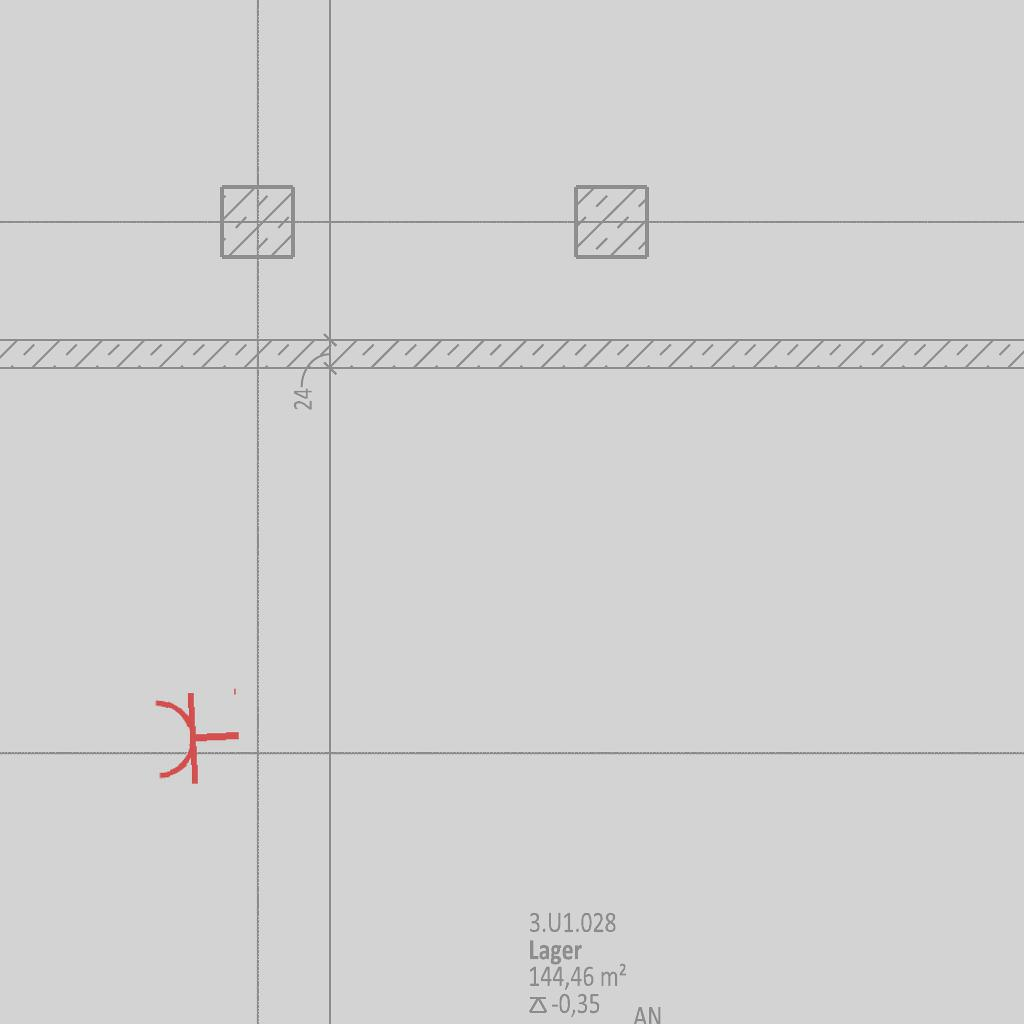Schukosteckdose_einfach: (151, 683, 244, 789)
